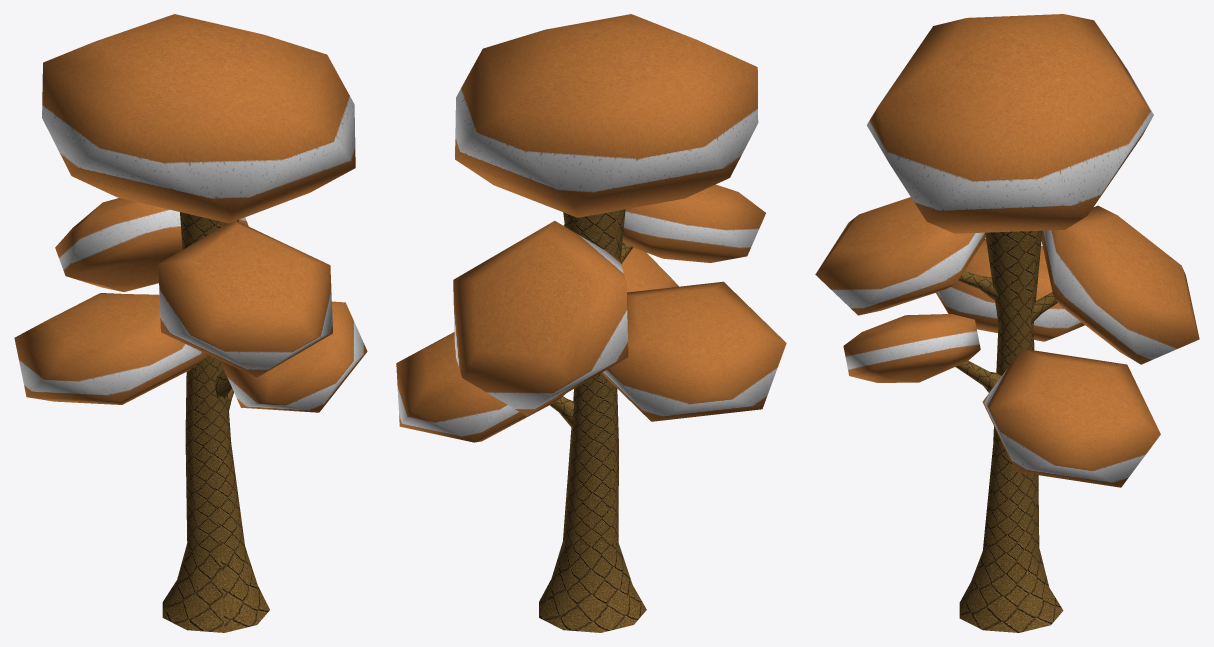
The model's file is tree1.obj.
3 renders of one model, left to right at view 1: azimuth 30°, elevation 25°; view 2: azimuth 150°, elevation 25°; view 3: azimuth 270°, elevation 25°, orthographic. The views are drawn at different scales.
Visible parts, largest first — view 1: Icosphere.003, wood.003_Cylinder.002; view 2: Icosphere.003, wood.003_Cylinder.002; view 3: Icosphere.003, wood.003_Cylinder.002.
Part boxes in pixels (bbox=[...]): Icosphere.003: bbox=[14, 14, 367, 412]; wood.003_Cylinder.002: bbox=[162, 212, 269, 632]; Icosphere.003: bbox=[396, 14, 786, 442]; wood.003_Cylinder.002: bbox=[539, 209, 646, 632]; Icosphere.003: bbox=[815, 14, 1199, 487]; wood.003_Cylinder.002: bbox=[955, 230, 1063, 632].
Size of the model in its own units: 1.84 by 3.03 by 1.86.
2 materials, 2 textured.
